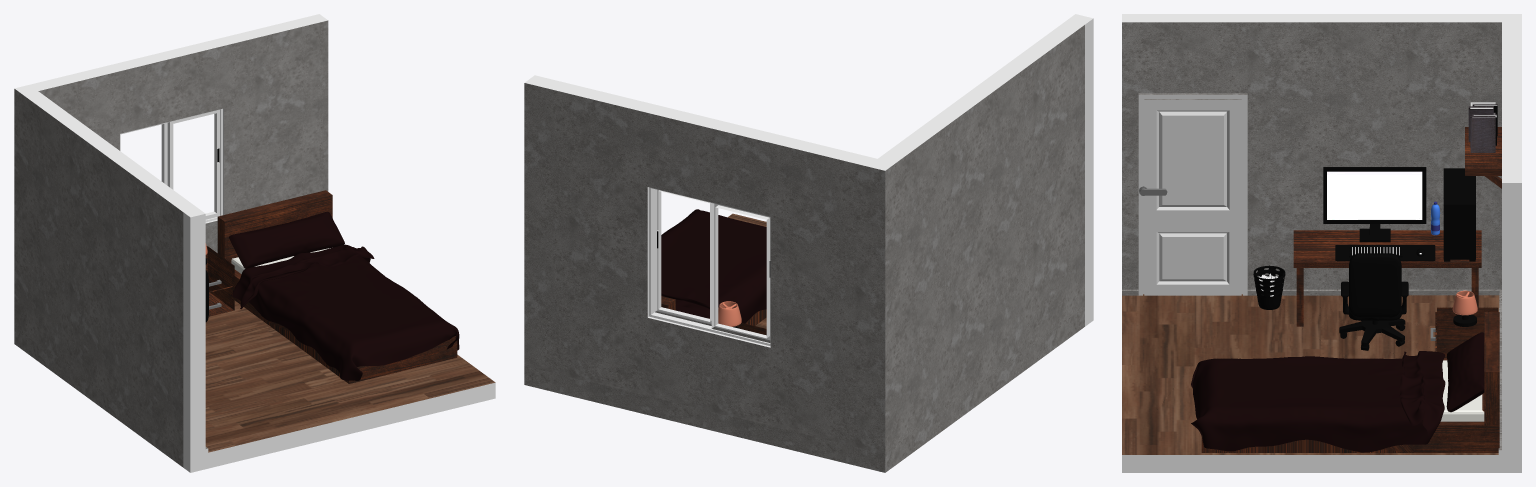
Rendered from low_poly_isometric_room.glb.
3 views of the same model, side by side, from view 1: azimuth 30°, elevation 25°; view 2: azimuth 150°, elevation 25°; view 3: azimuth 270°, elevation 25° (orthographic). The views are drawn at different scales.
Parts seen in each view (by area): view 1: Habitacion_0, sabana_6, Cama_4, Cojin_5, Mesa noche_25; view 2: Habitacion_0, sabana_6; view 3: Habitacion_0, sabana_6, Pantalla_20, Cama_4, Silla_22, Mesa_18, Ordenador_19, Cojin_5, Mesa noche_25, Libros_28, Estanteria_27, Papelera_3 (+3 smaller).
Boxes of the visible parts, x1,y1,x2,y2 form: Habitacion_0: (14,14,495,472); sabana_6: (231,244,459,380); Cama_4: (217,190,457,383); Cojin_5: (229,211,344,268); Mesa noche_25: (205,246,234,316); Habitacion_0: (524,14,1093,472); sabana_6: (661,209,766,323); Habitacion_0: (1122,14,1521,472); sabana_6: (1191,351,1445,452); Pantalla_20: (1323,167,1426,242); Cama_4: (1201,312,1499,452); Silla_22: (1339,253,1408,350); Mesa_18: (1293,230,1481,326); Ordenador_19: (1443,168,1475,261); Cojin_5: (1446,332,1484,412); Mesa noche_25: (1430,307,1498,360); Libros_28: (1468,102,1497,152); Estanteria_27: (1465,127,1501,188); Papelera_3: (1253,265,1285,309).
Bounding box in the file's own units: 9.95 × 7.71 × 9.64.
Materials: 20 (6 with a texture image).
